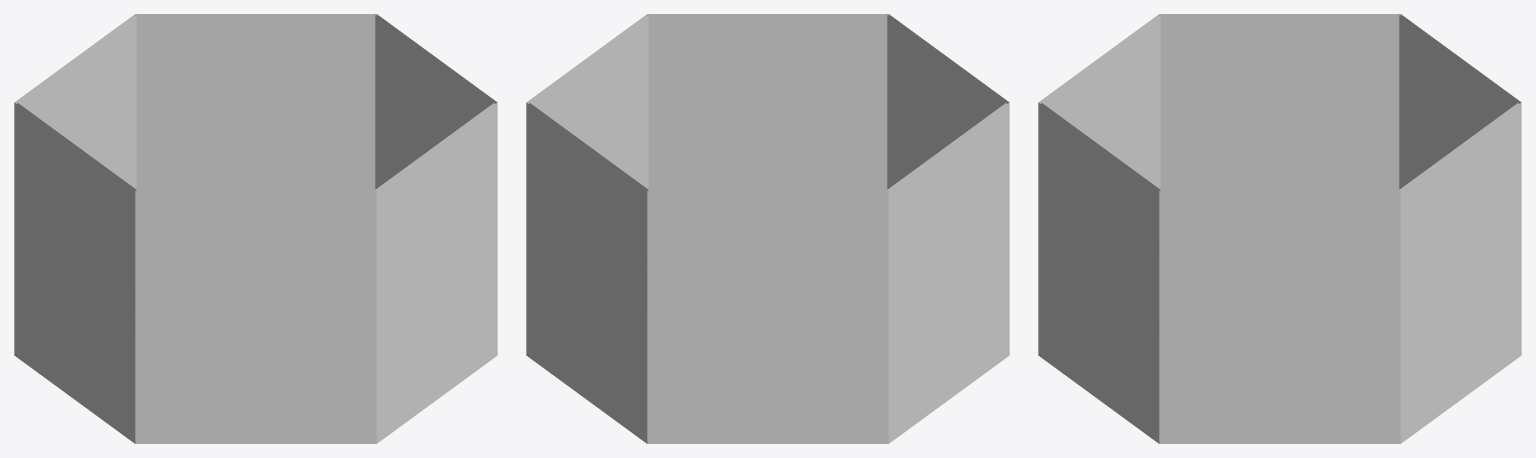
The model's file is Selected_mesh.fbx.
3 views of the same model, side by side, from view 1: azimuth 30°, elevation 25°; view 2: azimuth 150°, elevation 25°; view 3: azimuth 270°, elevation 25° (orthographic).
Visible parts, largest first — view 1: Cylinder.001; view 2: Cylinder.001; view 3: Cylinder.001.
Part boxes in pixels (left/top/right/bottom): Cylinder.001: left=14, top=14, right=497, bottom=443; Cylinder.001: left=526, top=14, right=1009, bottom=443; Cylinder.001: left=1038, top=14, right=1521, bottom=443.
Bounding box in the file's own units: 148 × 98.88 × 171.
1 material, 1 textured.
